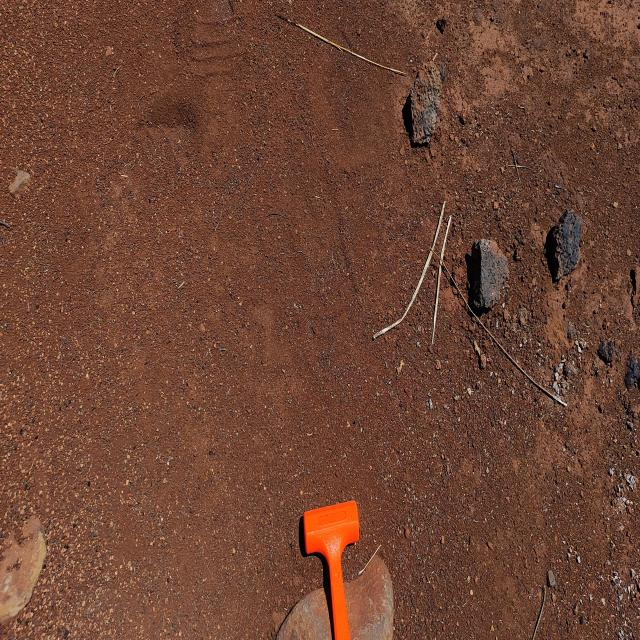Orange_hammer: (301, 498, 360, 638)
